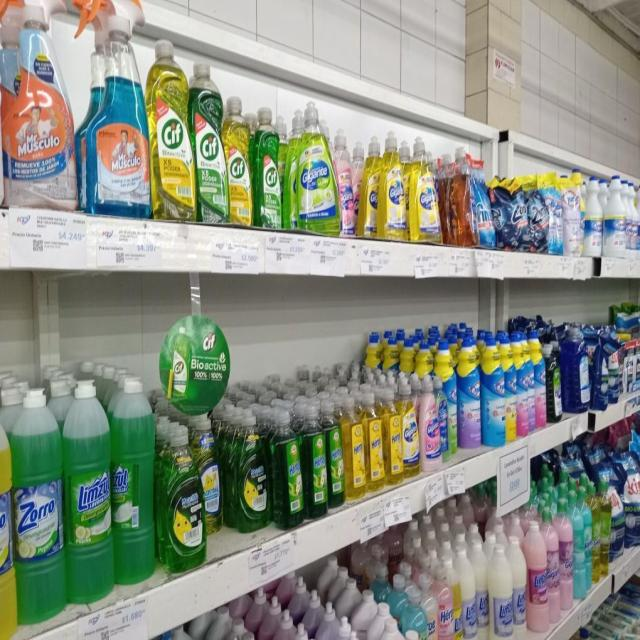cif_conc_bot_amarilla: (150, 39, 192, 223), (226, 95, 252, 228)
cif_conc_botella_verde: (194, 59, 225, 224), (253, 104, 283, 230)
magistral_con_amarillo: (200, 417, 222, 534)
